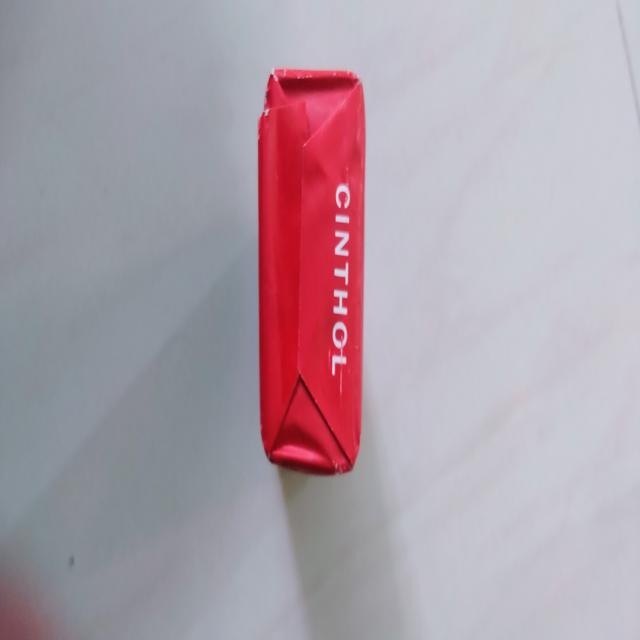soap: (259, 55, 363, 468)
